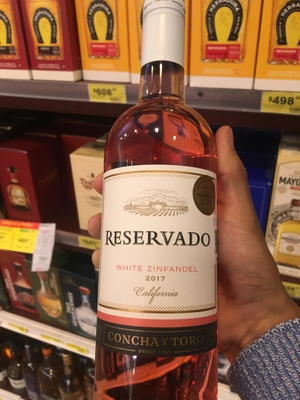reservado white zinfandel: (88, 20, 235, 399)
